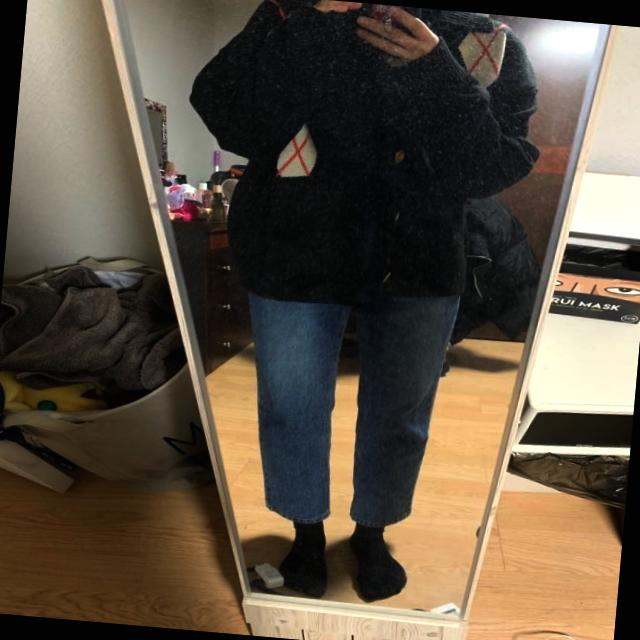cardigan: (173, 0, 551, 322)
denimpants: (231, 272, 462, 533)
